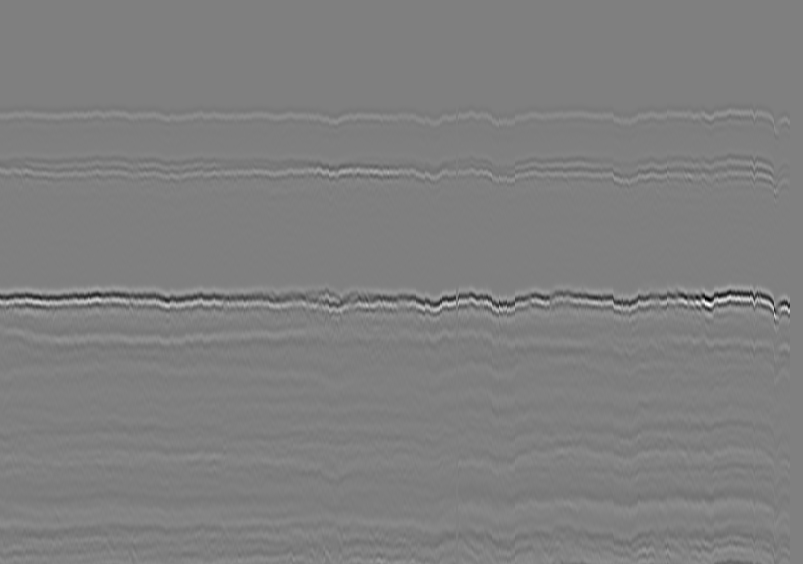fault: (609, 149, 642, 203), (486, 148, 520, 195), (606, 97, 642, 140), (766, 96, 793, 144), (767, 154, 793, 202), (486, 99, 516, 134)
